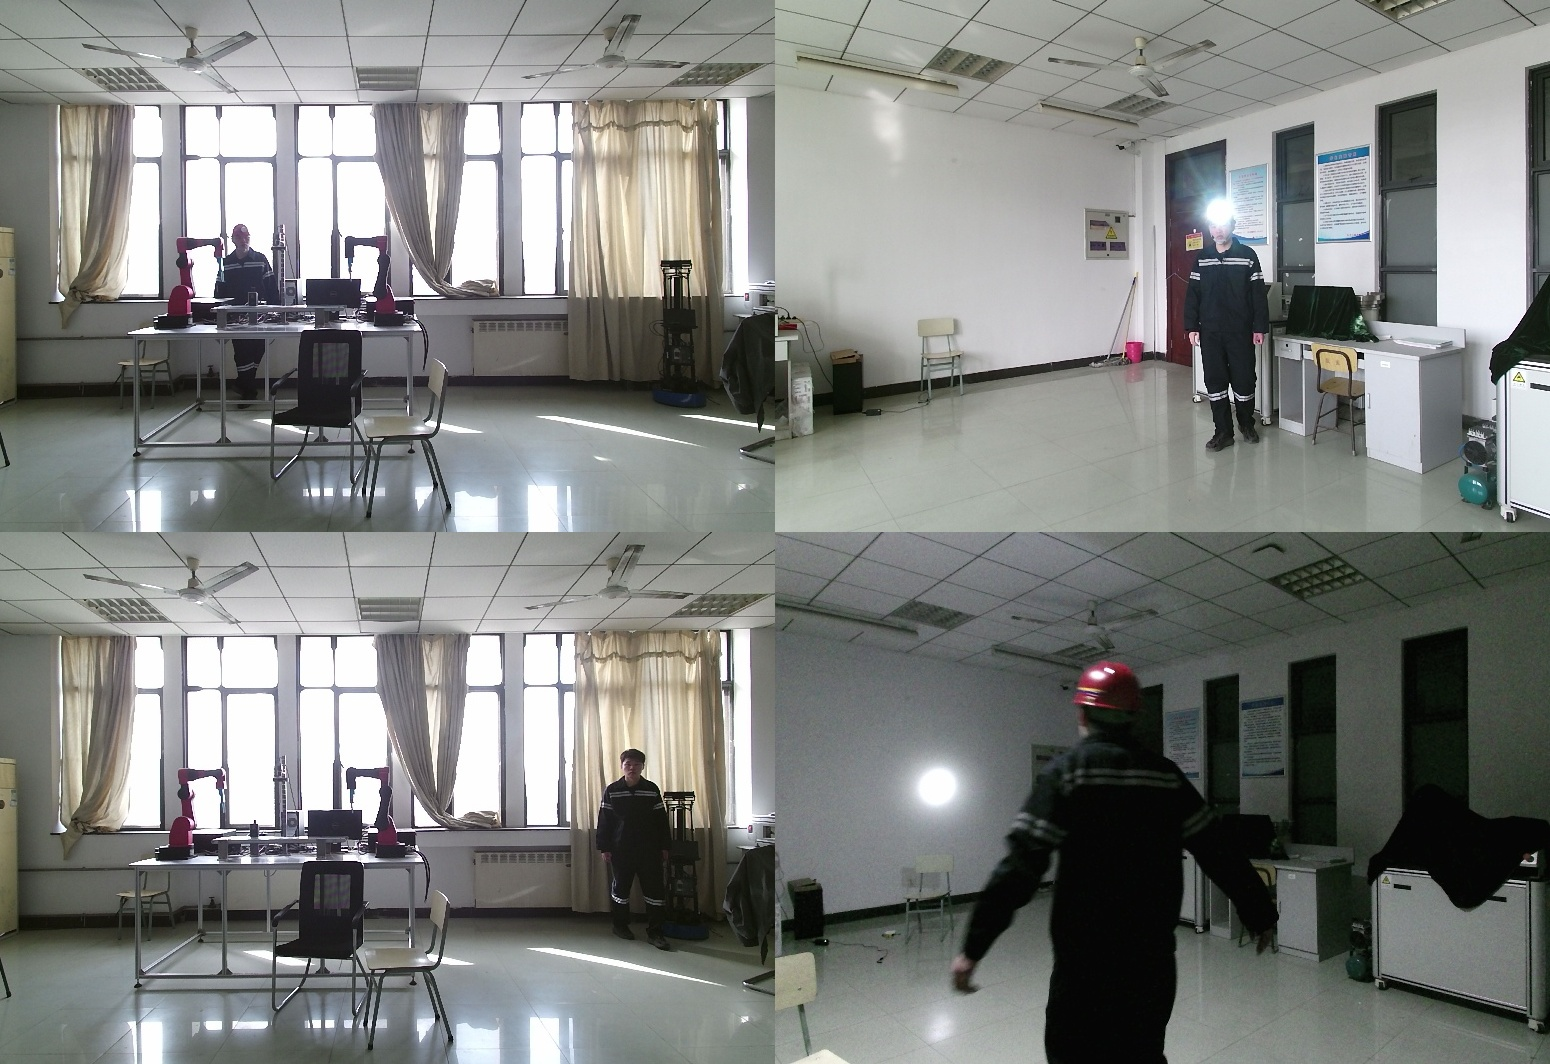person: (941, 658, 1300, 1064), (1191, 205, 1281, 452), (596, 750, 683, 946), (213, 224, 279, 410)
